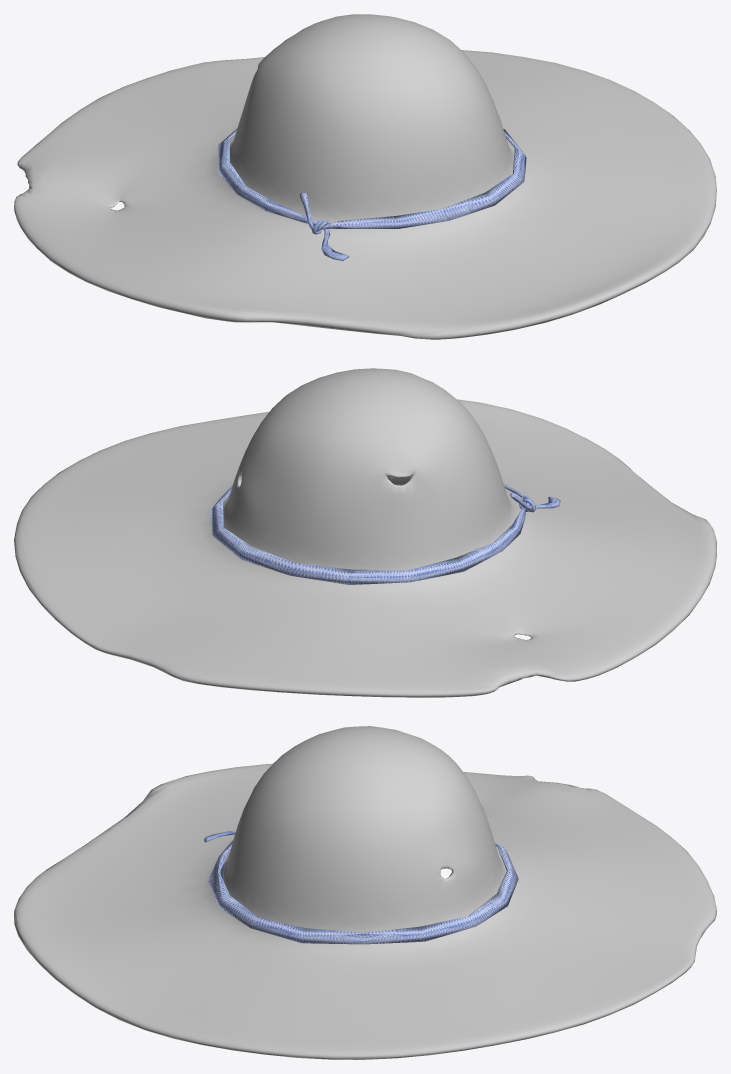
The model's file is StrawHat.fbx.
3 views of the same model, one above another, from view 1: azimuth 30°, elevation 25°; view 2: azimuth 150°, elevation 25°; view 3: azimuth 270°, elevation 25° (orthographic).
Visible parts, largest first — view 1: pCube1; view 2: pCube1; view 3: pCube1.
Boxes of the visible parts, x1,y1,x2,y2 form: pCube1: [14, 14, 716, 339]; pCube1: [14, 368, 716, 697]; pCube1: [14, 726, 716, 1059].
Bounding box in the file's own units: 38.41 × 10.82 × 38.25.
